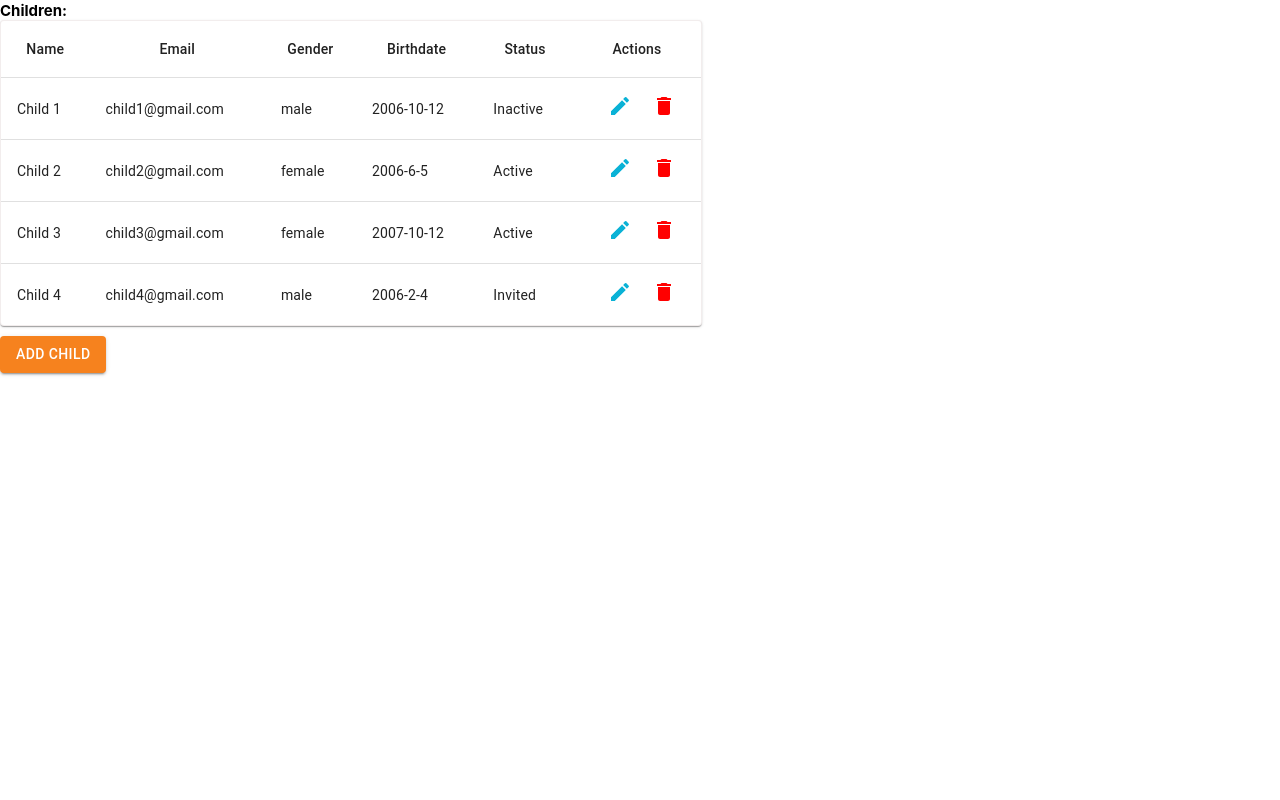
Render guardian profile › Close button is closing the modal
Click the button with test id "add_child" at (53, 354), box [0, 336, 106, 373]
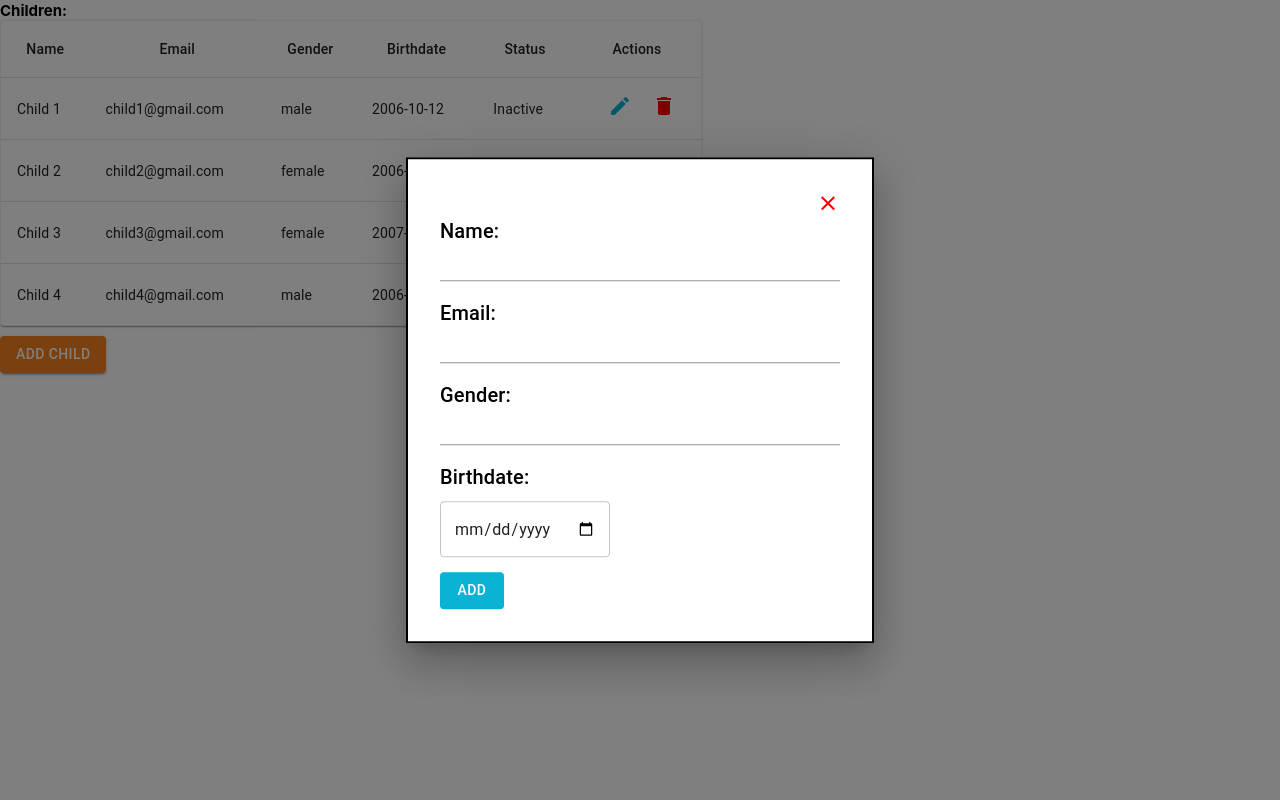
Click the icon with test id "close_icon2" at (828, 203), box [816, 191, 840, 215]
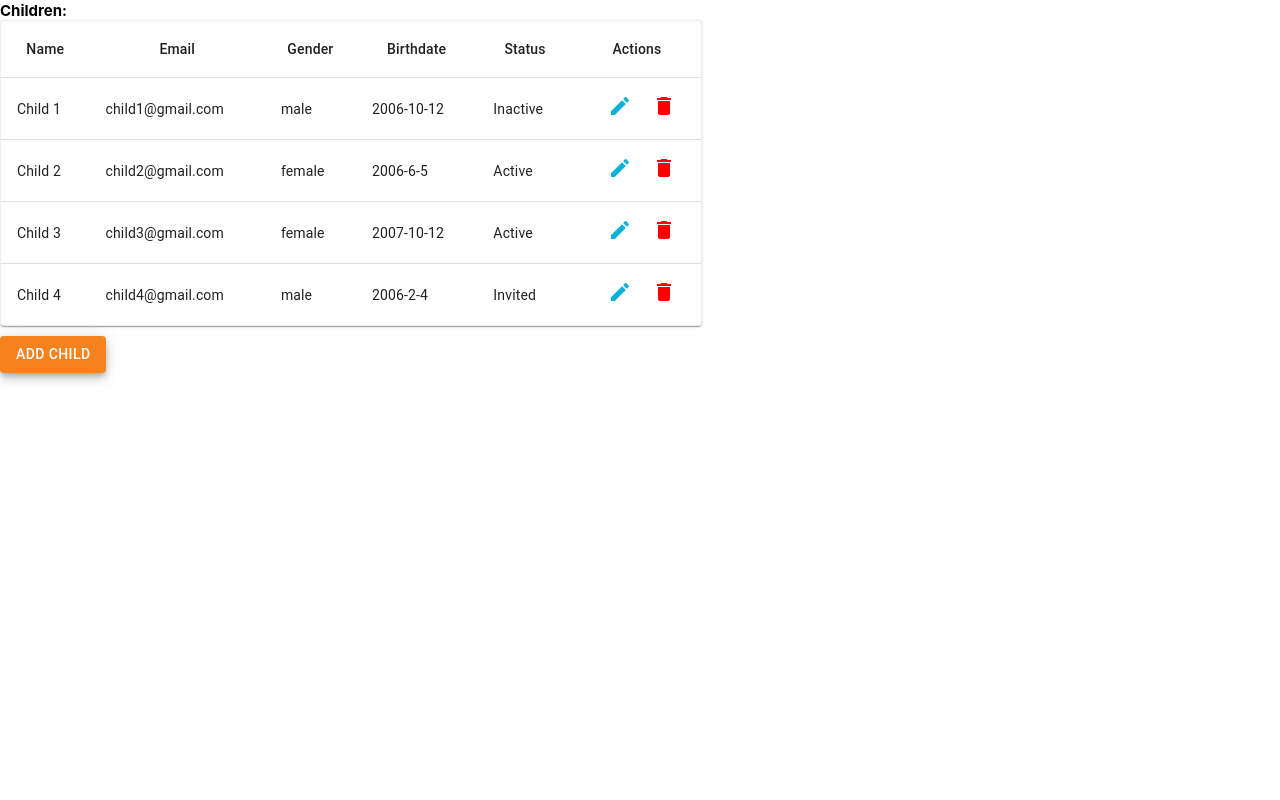
Now the button with test id "add_btn" is gone
